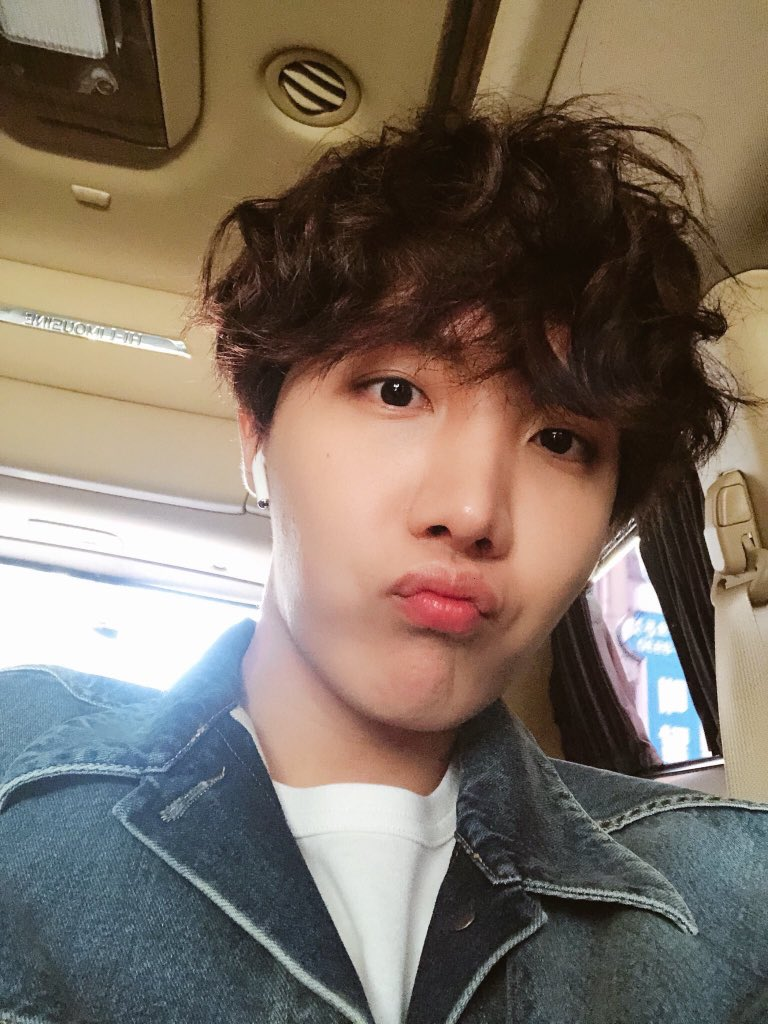earphone: (237, 400, 270, 508)
